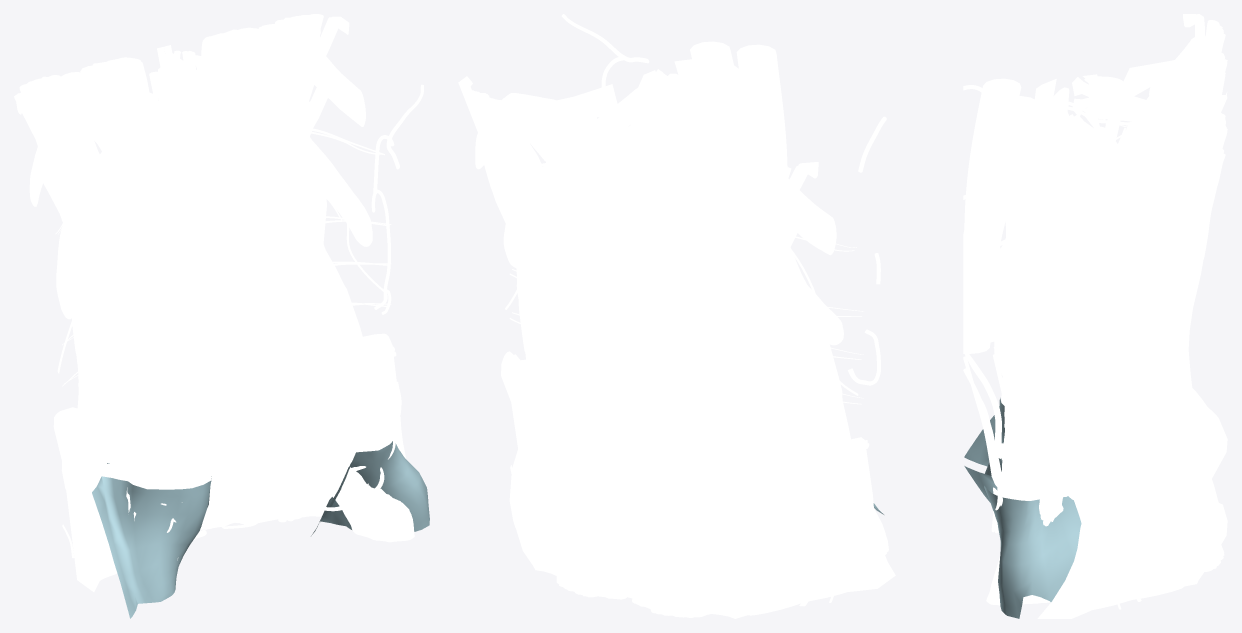
The model's file is lumbar_spine.glb.
3 views of the same model, side by side, from view 1: azimuth 30°, elevation 25°; view 2: azimuth 150°, elevation 25°; view 3: azimuth 270°, elevation 25° (orthographic). The views are drawn at different scales.
Parts seen in each view (by area): view 1: Psoas major.r, Psoas major.l, Quadratus lumborum muscle.r, Anterior longitudinal ligament, Iliopsoas fascia.r, Inferior vena cava (abdominal part).001, Abdominal aorta.001, Iliocostalis lumborum muscle.r, Hip bone.r, Twelfth rib.r, Iliopsoas fascia.l, Eleventh rib.l (+27 smaller); view 2: Iliocostalis lumborum muscle.r, Iliocostalis lumborum muscle.l, Longissimus thoracis muscle.l, Longissimus thoracis muscle.r, Hip bone.r, Psoas major.r, Hip bone.l, Inferior vena cava (abdominal part).001, Posterior sacro-iliac ligament.r, Posterior sacro-iliac ligament.l, Supraspinous ligament, Twelfth rib.r (+17 smaller); view 3: Psoas major.l, Hip bone.l, Iliocostalis lumborum muscle.l, Abdominal aorta.001, Iliopsoas fascia.l, Quadratus lumborum muscle.l, Anterior longitudinal ligament, Twelfth rib.l, Dorsal parts of lateral intertransversarii lumborum muscles., Eleventh rib.l, Inferior vena cava (abdominal part).001, Longissimus thoracis muscle.l (+32 smaller).
Part boxes in pixels (bbox=[...]): Psoas major.r: bbox=[124, 122, 235, 560]; Psoas major.l: bbox=[275, 106, 414, 542]; Quadratus lumborum muscle.r: bbox=[72, 111, 168, 463]; Anterior longitudinal ligament: bbox=[204, 101, 306, 530]; Iliopsoas fascia.r: bbox=[92, 463, 211, 618]; Inferior vena cava (abdominal part).001: bbox=[239, 124, 284, 389]; Abdominal aorta.001: bbox=[266, 109, 317, 392]; Iliocostalis lumborum muscle.r: bbox=[14, 75, 99, 409]; Hip bone.r: bbox=[53, 407, 108, 591]; Twelfth rib.r: bbox=[56, 113, 192, 319]; Iliopsoas fascia.l: bbox=[311, 441, 429, 535]; Eleventh rib.l: bbox=[257, 28, 365, 126]; Iliocostalis lumborum muscle.r: bbox=[650, 160, 810, 617]; Iliocostalis lumborum muscle.l: bbox=[458, 81, 603, 597]; Longissimus thoracis muscle.l: bbox=[529, 103, 645, 599]; Longissimus thoracis muscle.r: bbox=[632, 130, 726, 608]; Hip bone.r: bbox=[705, 437, 895, 615]; Psoas major.r: bbox=[737, 89, 888, 554]; Hip bone.l: bbox=[501, 351, 553, 527]; Inferior vena cava (abdominal part).001: bbox=[736, 44, 787, 225]; Posterior sacro-iliac ligament.r: bbox=[697, 532, 753, 618]; Posterior sacro-iliac ligament.l: bbox=[513, 483, 564, 575]; Supraspinous ligament: bbox=[612, 134, 650, 433]; Twelfth rib.r: bbox=[719, 109, 843, 345]; Psoas major.l: bbox=[986, 119, 1123, 605]; Hip bone.l: bbox=[1037, 457, 1212, 618]; Iliocostalis lumborum muscle.l: bbox=[1138, 148, 1225, 571]; Abdominal aorta.001: bbox=[963, 96, 1038, 353]; Iliopsoas fascia.l: bbox=[964, 466, 1081, 618]; Quadratus lumborum muscle.l: bbox=[1108, 155, 1180, 464]; Anterior longitudinal ligament: bbox=[994, 79, 1056, 427]; Twelfth rib.l: bbox=[1088, 126, 1182, 367]; Dorsal parts of lateral intertransversarii lumborum muscles.: bbox=[1091, 155, 1154, 442]; Eleventh rib.l: bbox=[1149, 132, 1203, 271]; Inferior vena cava (abdominal part).001: bbox=[964, 78, 1021, 342]; Longissimus thoracis muscle.l: bbox=[1124, 110, 1227, 491].
Size of the model in its own units: 0.18 by 0.23 by 0.1243.
